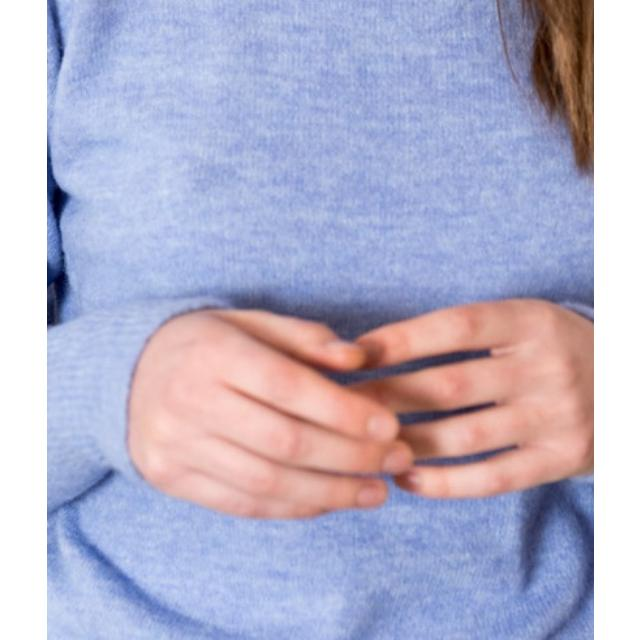polyester: (46, 0, 594, 640)
